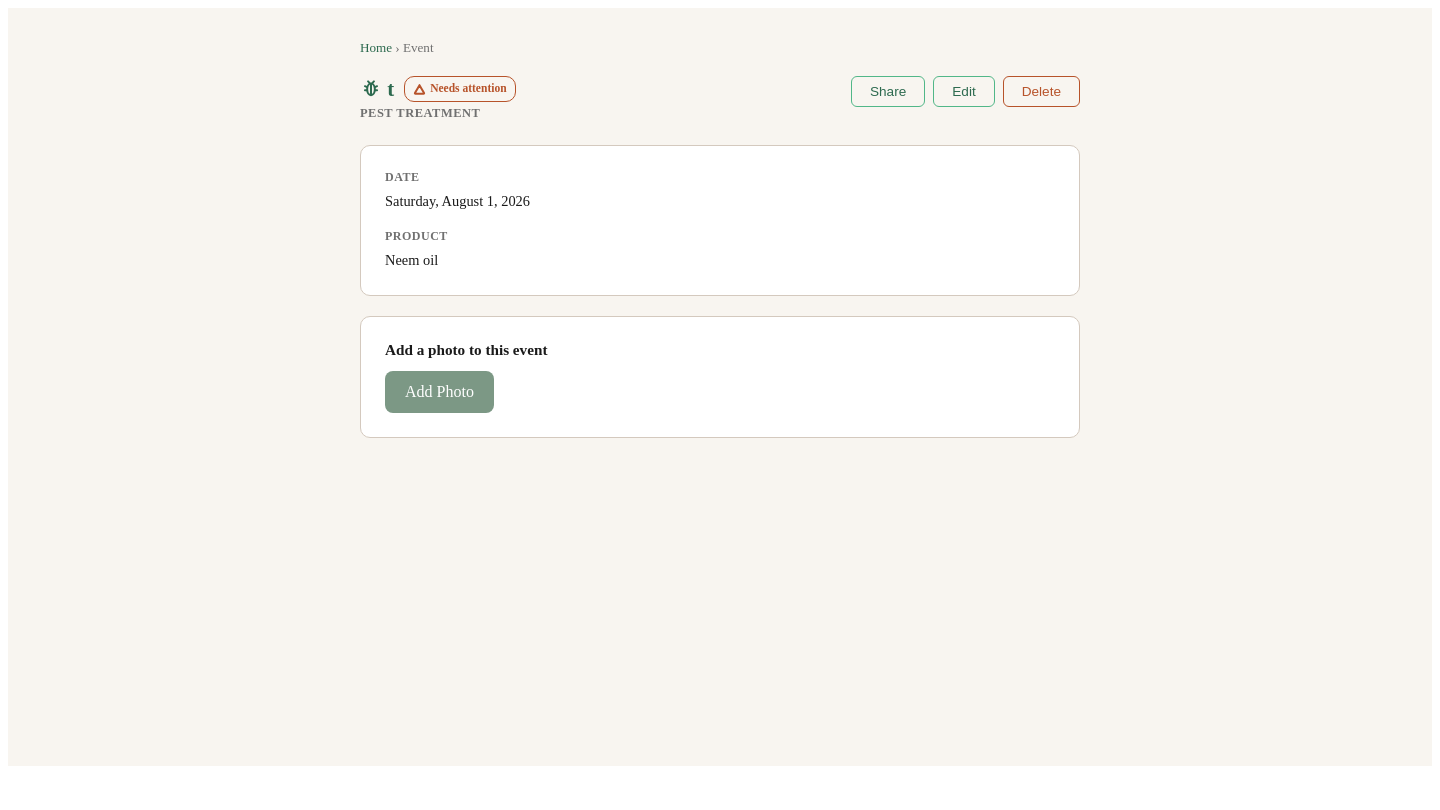
Test: slice 2: the edit form seeds and saves what it can now write › seeds the treatment fields from the GET body
The width and height of the screenshot is (1440, 810).
Click the button "Edit".
click(964, 92)  # box top-left (933, 76), bottom-right (995, 107)
(page scrolled)
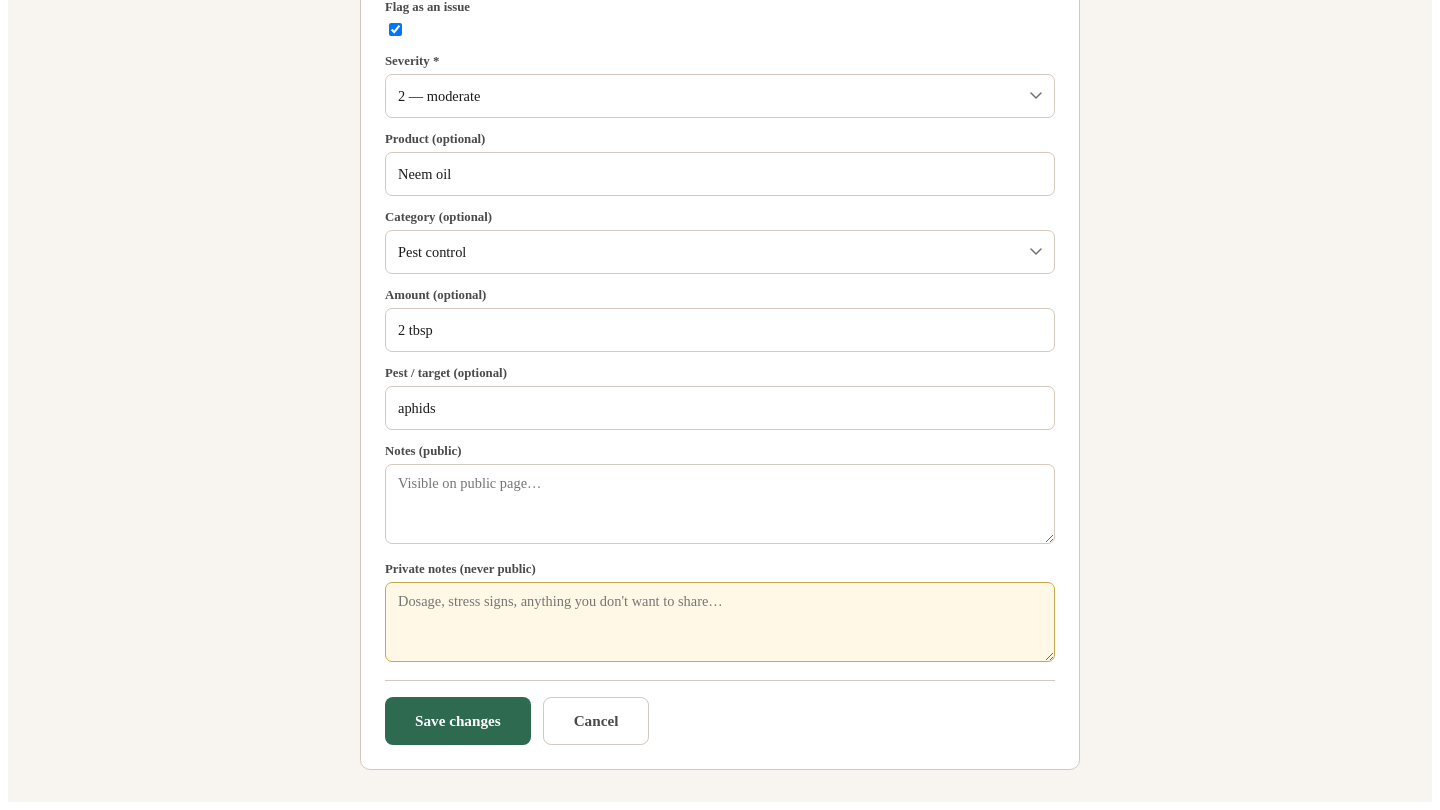
Check: the field labelled "Product (optional)" holds "Neem oil", box top-left (385, 152), bottom-right (1055, 196)
Check: the field labelled "Amount (optional)" holds "2 tbsp", box top-left (385, 308), bottom-right (1055, 352)
Check: the field labelled "Pest / target (optional)" holds "aphids", box top-left (385, 386), bottom-right (1055, 430)
